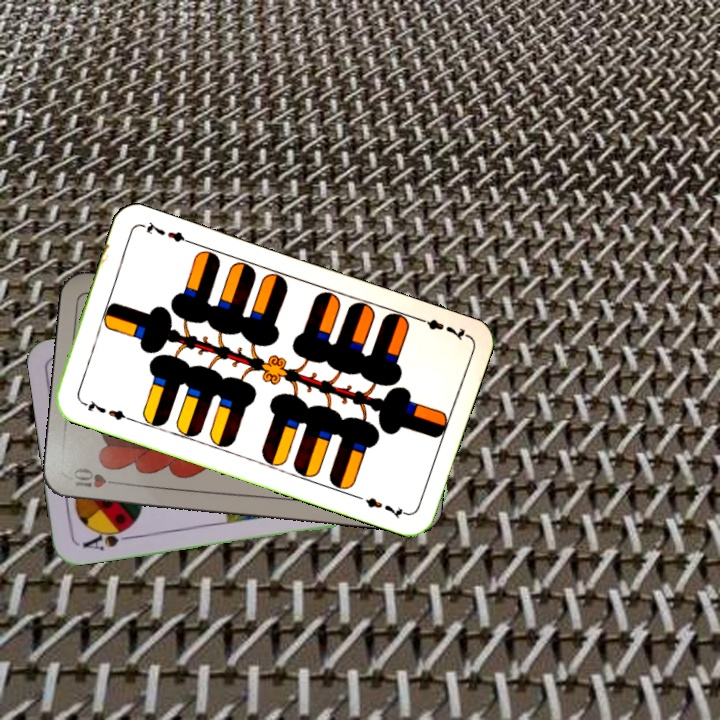E7: (412, 313, 470, 344), (77, 396, 134, 424)
H10: (70, 464, 126, 490)
SA: (78, 523, 135, 553)
